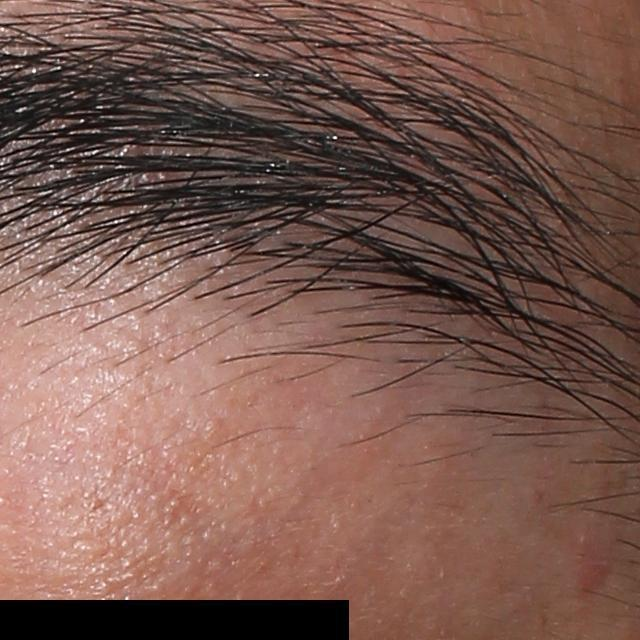papule: (575, 548, 610, 592)
